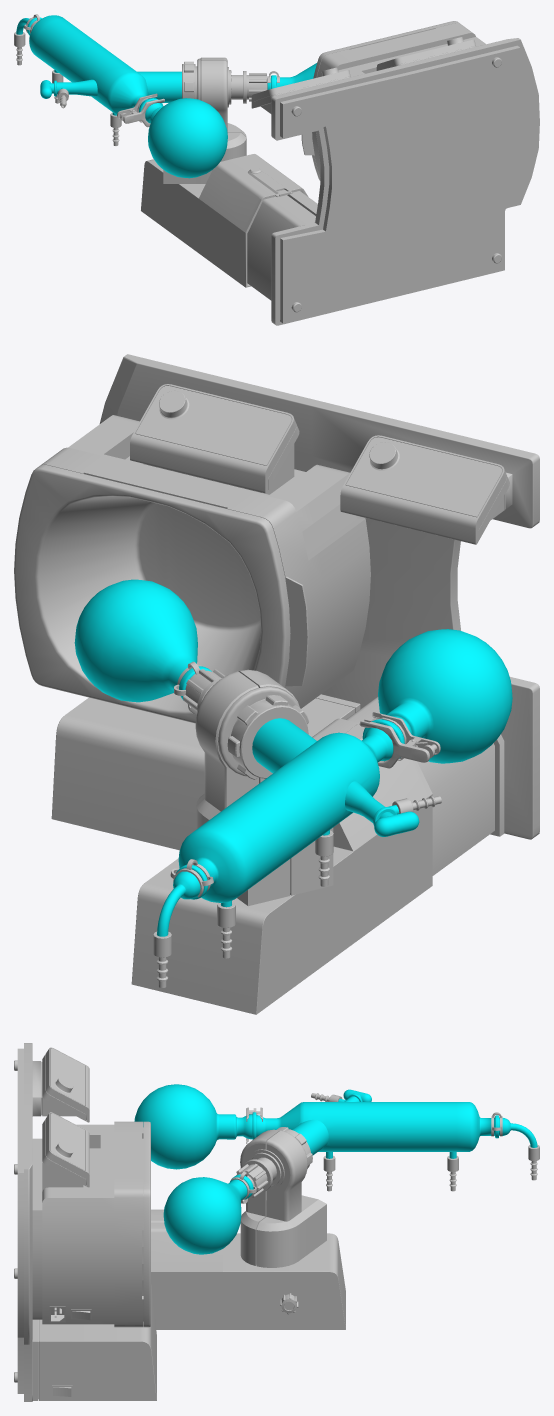
File: Spritzflasche.glb
The picture shows the model from 3 angles, top to bottom: view 1: azimuth 30°, elevation 25°; view 2: azimuth 150°, elevation 25°; view 3: azimuth 270°, elevation 25°; orthographic projection. The views are drawn at different scales.
Visible parts, largest first — view 1: Rotary_Evaporators; view 2: Rotary_Evaporators; view 3: Rotary_Evaporators.
Boxes of the visible parts, bbox=[...] form: Rotary_Evaporators: bbox=[14, 14, 539, 325]; Rotary_Evaporators: bbox=[14, 354, 539, 1014]; Rotary_Evaporators: bbox=[14, 1043, 539, 1401].
Size of the model in its own units: 7.54 by 4.77 by 9.36.
